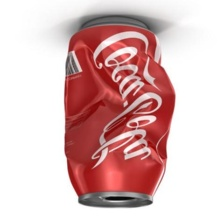can: (59, 9, 176, 208)
